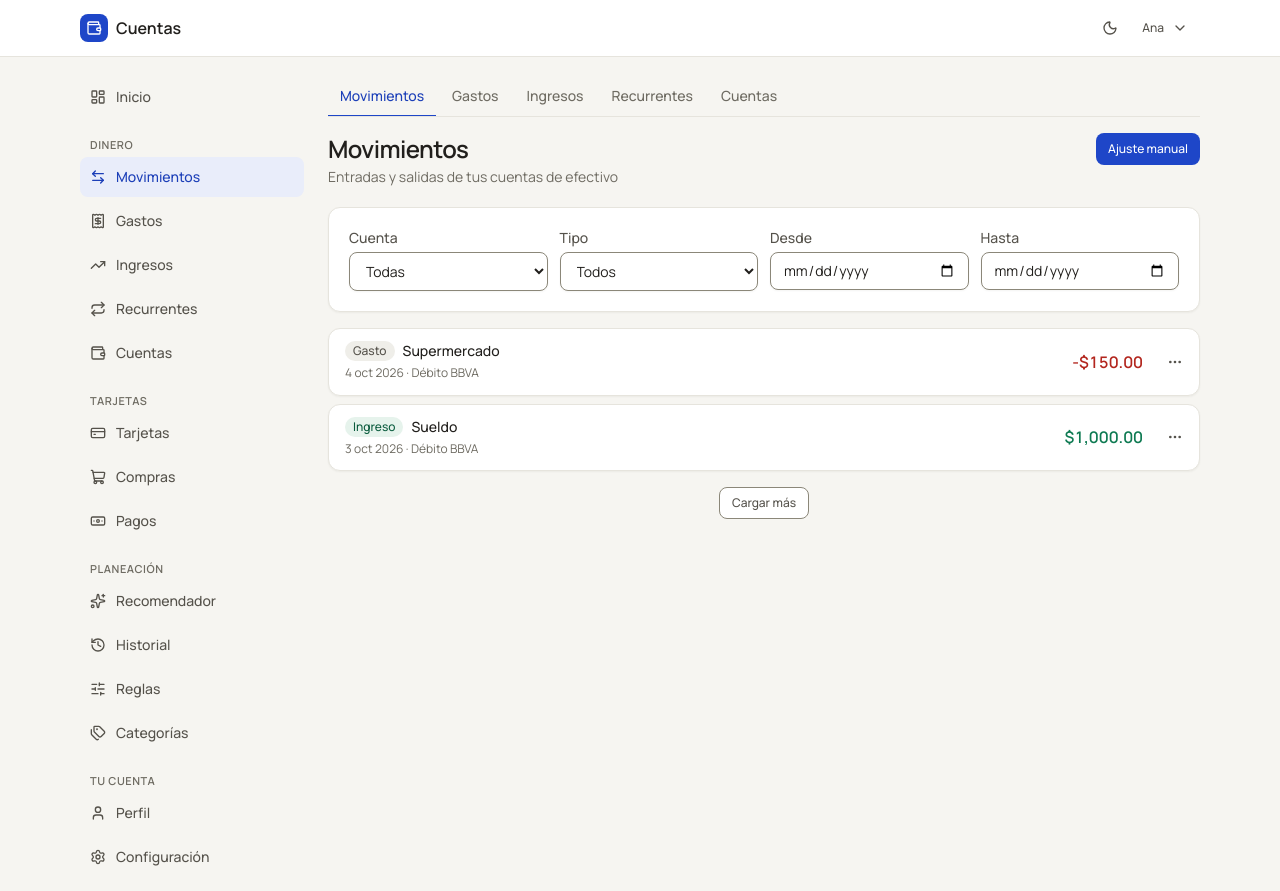
it: movimientos › lista movimientos y carga la siguiente página con cursor
The image size is (1280, 891).
Expected: the text "Supermercado" is shown, [403, 341, 500, 360]
Expected: the text "Sueldo" is shown, [412, 416, 457, 436]
Click the button "Cargar más" at coordinates (764, 503), box [719, 487, 809, 519]
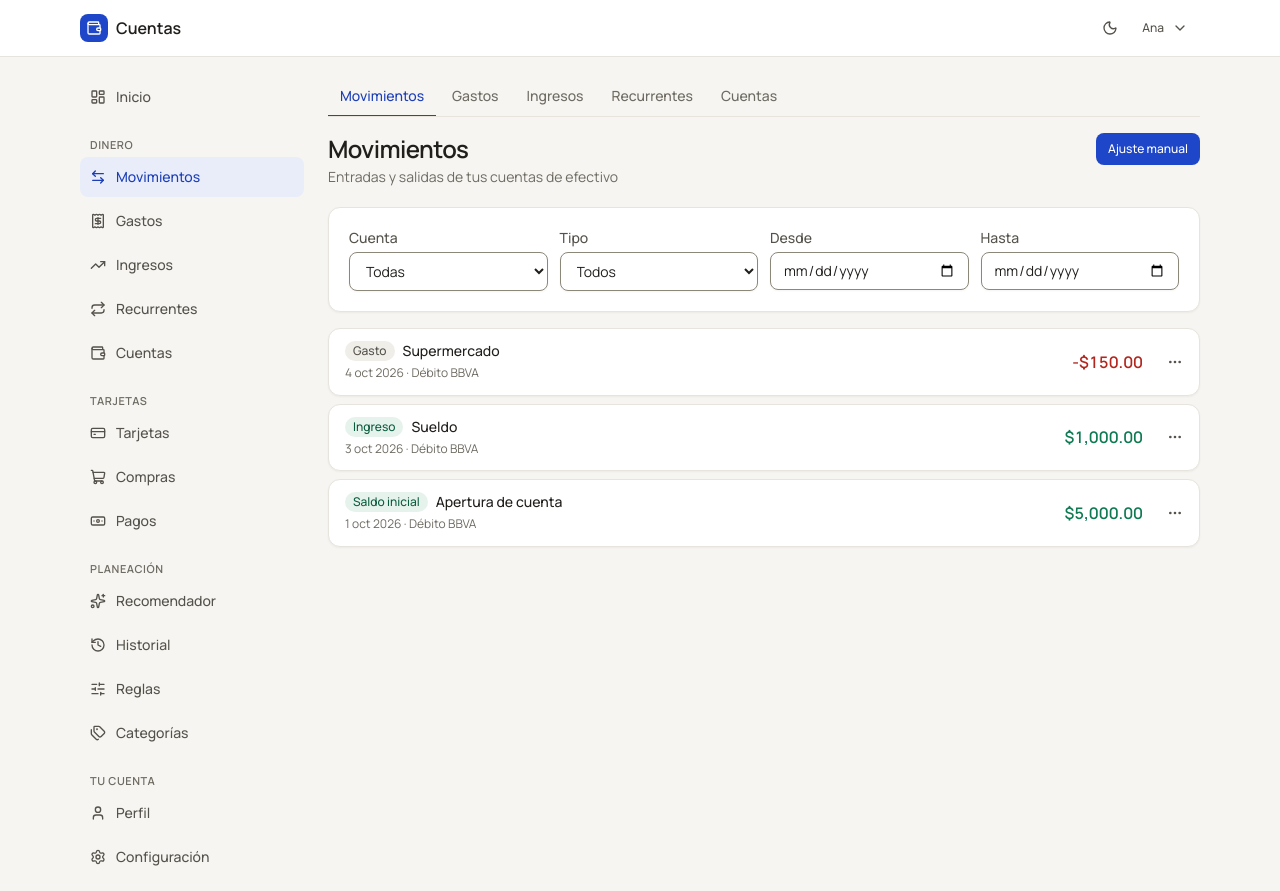
Expected: the text "Apertura de cuenta" is shown, [436, 492, 562, 511]
